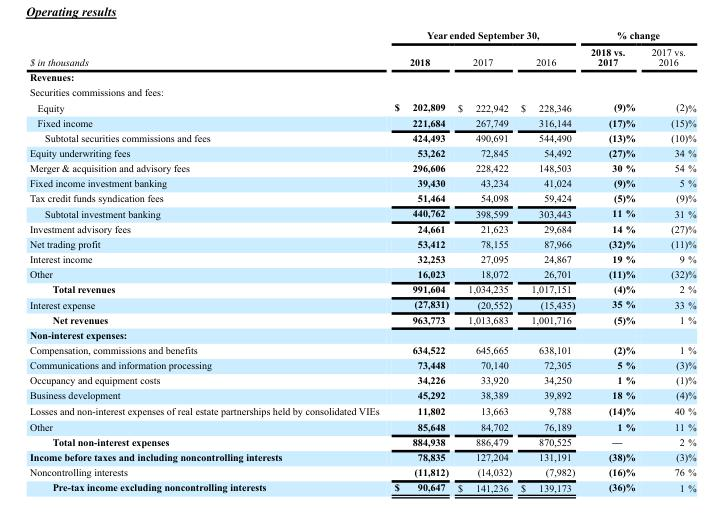table: (28, 29, 695, 492)
table column: (28, 29, 386, 492), (515, 29, 582, 492), (386, 29, 452, 492), (452, 29, 515, 492), (582, 29, 642, 492), (642, 29, 695, 492)
table column header: (28, 29, 695, 69)
table projected row header: (28, 69, 695, 84), (28, 84, 695, 99), (28, 326, 695, 341)
table row: (28, 43, 695, 69), (28, 144, 695, 160), (28, 235, 695, 251), (28, 341, 695, 357), (28, 387, 695, 403), (28, 418, 695, 434), (28, 69, 695, 84), (28, 84, 695, 99), (28, 99, 695, 114), (28, 114, 695, 129), (28, 129, 695, 144), (28, 160, 695, 175), (28, 175, 695, 190), (28, 190, 695, 205), (28, 205, 695, 220), (28, 220, 695, 235), (28, 251, 695, 266), (28, 266, 695, 281), (28, 281, 695, 296), (28, 296, 695, 311), (28, 311, 695, 326), (28, 326, 695, 341), (28, 357, 695, 372), (28, 372, 695, 387), (28, 403, 695, 418), (28, 434, 695, 449), (28, 449, 695, 464), (28, 464, 695, 479), (28, 29, 695, 43), (28, 479, 695, 492)
table spanning cell: (28, 29, 386, 69), (386, 29, 582, 43), (582, 29, 695, 43)
